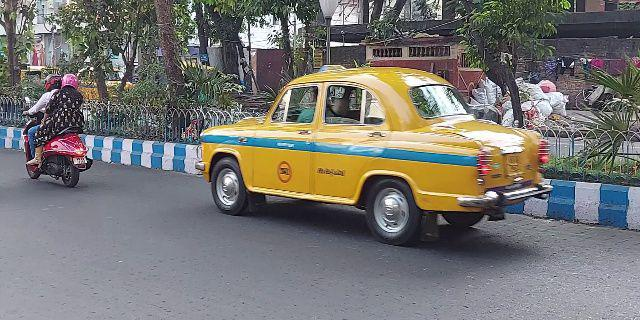Car: (195, 62, 562, 247)
Motorbike: (21, 70, 94, 190)
